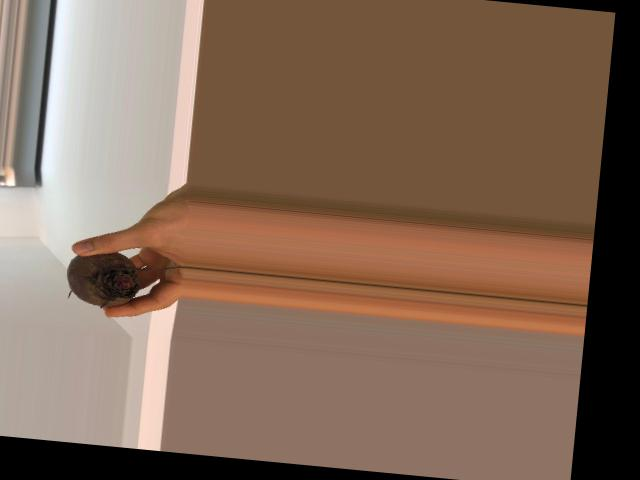beet: (63, 246, 184, 315)
